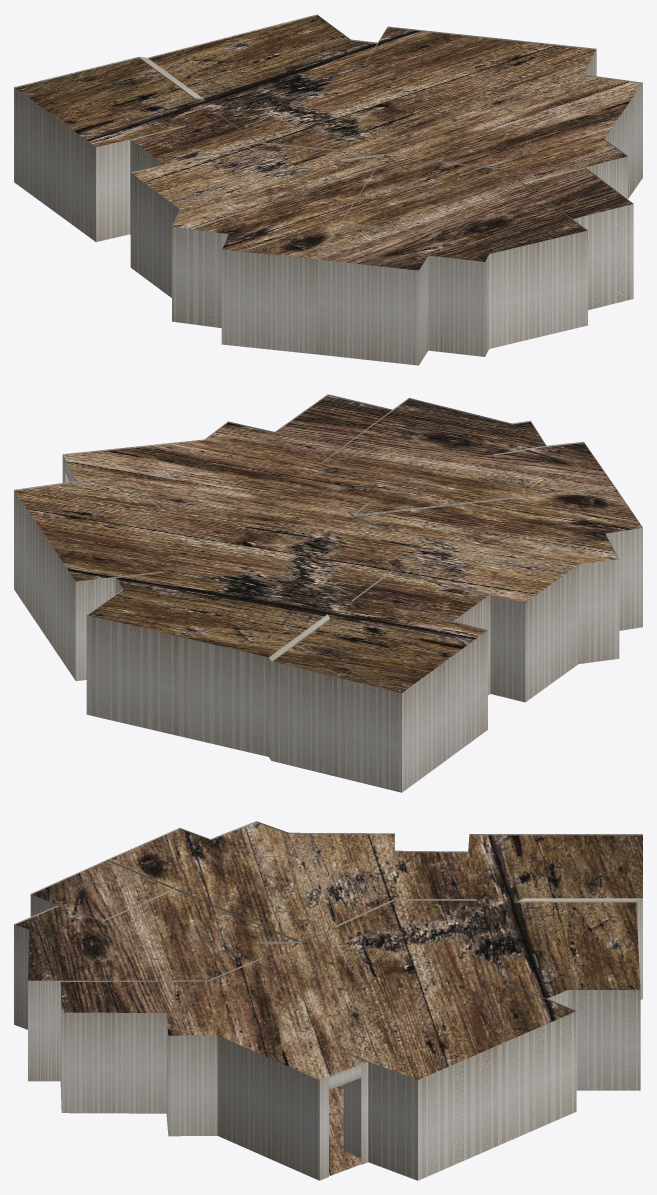
Rendered from Escenario Taller.fbx.
3 views of the same model, one above another, from view 1: azimuth 30°, elevation 25°; view 2: azimuth 150°, elevation 25°; view 3: azimuth 270°, elevation 25° (orthographic). The views are drawn at different scales.
Parts seen in each view (by area): view 1: Suelo.001, Habitación; view 2: Suelo.001, Habitación; view 3: Suelo.001, Habitación, Suelo.
Part boxes in pixels (x1=…): Suelo.001: x1=15, y1=15, x2=641, y2=270; Habitación: x1=14, y1=14, x2=642, y2=365; Suelo.001: x1=15, y1=395, x2=641, y2=692; Habitación: x1=14, y1=394, x2=642, y2=792; Suelo.001: x1=16, y1=822, x2=642, y2=1079; Habitación: x1=14, y1=821, x2=642, y2=1180; Suelo: x1=329, y1=1084, x2=361, y2=1176.
Bounding box in the file's own units: 1331 × 243 × 1367.
Materials: 3 (3 with a texture image).
